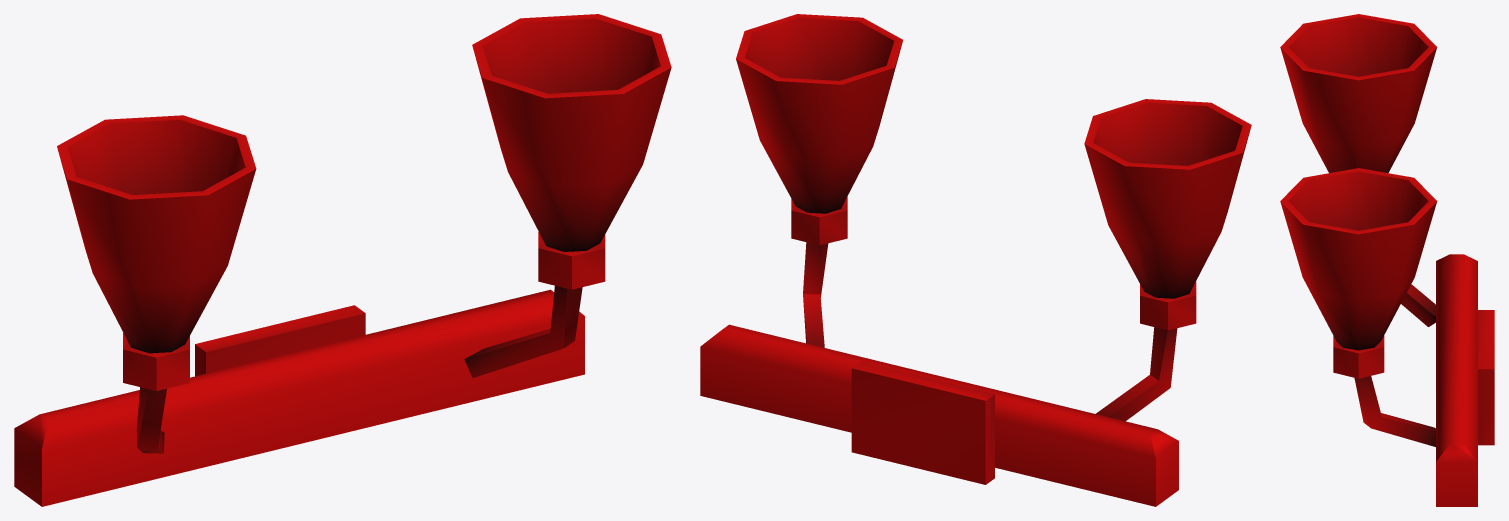
File: CI_Bathroom_Sconce_Wall.glb
3 renders of one model, left to right at view 1: azimuth 30°, elevation 25°; view 2: azimuth 150°, elevation 25°; view 3: azimuth 270°, elevation 25°, orthographic. The views are drawn at different scales.
Visible parts, largest first — view 1: CI_Bathroom_Sconce_Wall; view 2: CI_Bathroom_Sconce_Wall; view 3: CI_Bathroom_Sconce_Wall.
Boxes of the visible parts, bbox=[...] form: CI_Bathroom_Sconce_Wall: bbox=[14, 14, 671, 506]; CI_Bathroom_Sconce_Wall: bbox=[700, 14, 1251, 506]; CI_Bathroom_Sconce_Wall: bbox=[1280, 14, 1494, 506].
Size of the model in its own units: 0.372 by 0.2295 by 0.153.
